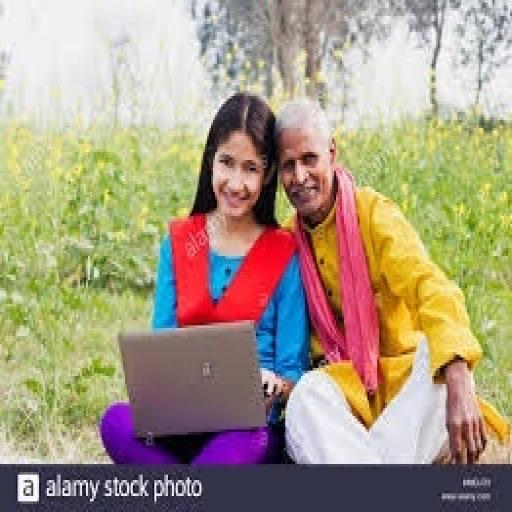using_laptop: (115, 317, 272, 440)
